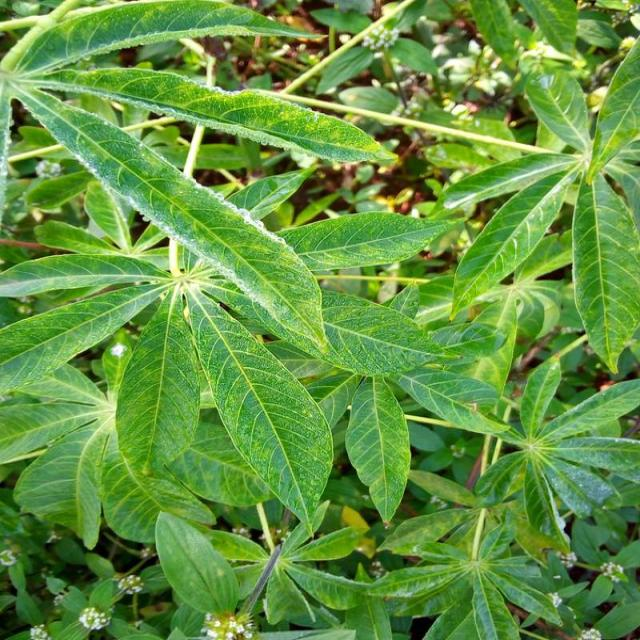cassava leaf: (10, 78, 331, 359), (184, 283, 334, 536), (24, 65, 399, 166)
